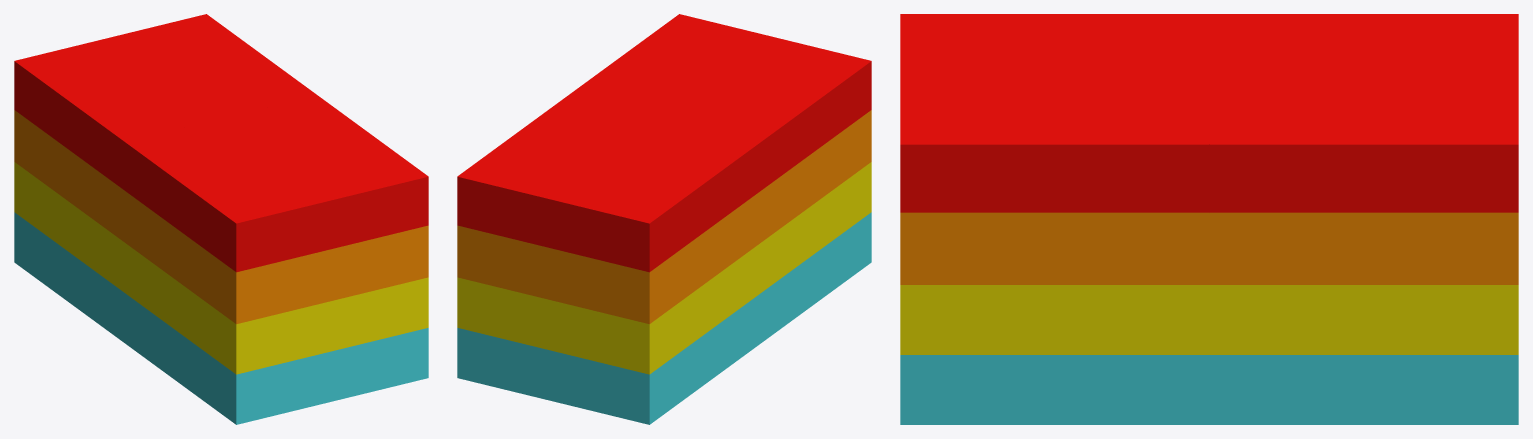
The model's file is cake3.fbx.
3 views of the same model, side by side, from view 1: azimuth 30°, elevation 25°; view 2: azimuth 150°, elevation 25°; view 3: azimuth 270°, elevation 25° (orthographic). The views are drawn at different scales.
Visible parts, largest first — view 1: Cube.170, Cube.172; view 2: Cube.172, Cube.170; view 3: Cube.170, Cube.172.
Part boxes in pixels (left/top/right/bottom): Cube.170: left=125, top=95, right=428, bottom=424; Cube.172: left=14, top=14, right=316, bottom=343; Cube.172: left=457, top=95, right=760, bottom=424; Cube.170: left=569, top=14, right=871, bottom=343; Cube.170: left=900, top=14, right=1209, bottom=424; Cube.172: left=1209, top=14, right=1518, bottom=424.
Size of the model in its own units: 379 by 379 by 759.
